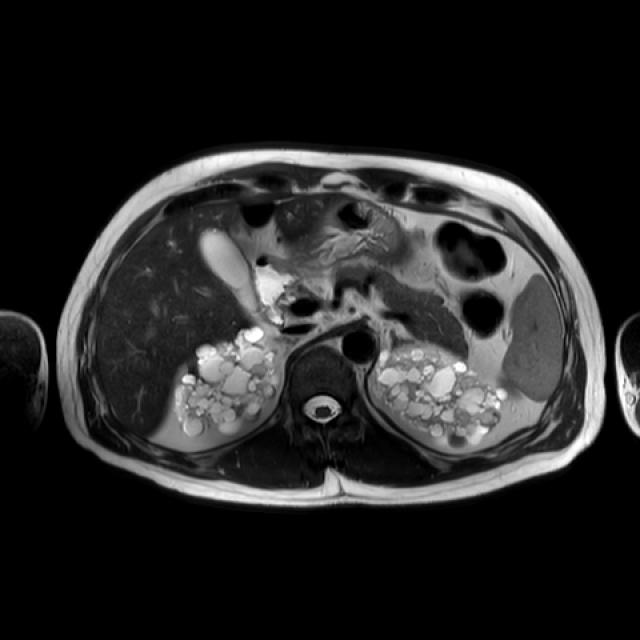sag: (173, 327, 282, 438)
sol: (369, 342, 509, 450)
